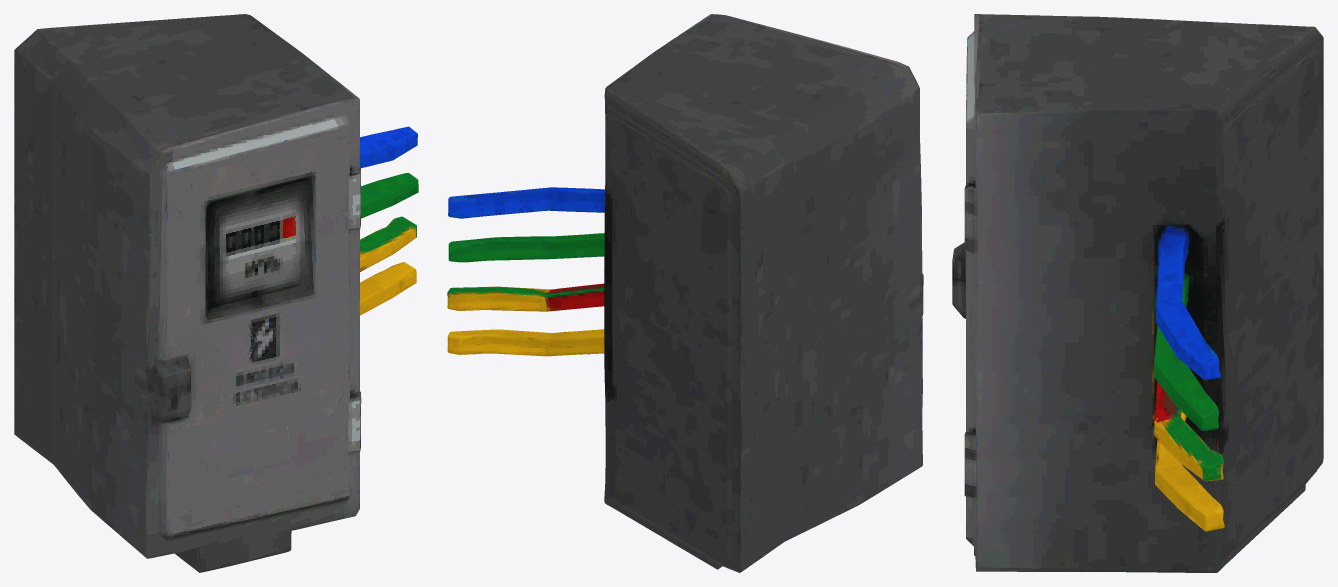
File: power_meter_psx.glb
The picture shows the model from 3 angles, left to right: view 1: azimuth 30°, elevation 25°; view 2: azimuth 150°, elevation 25°; view 3: azimuth 270°, elevation 25°; orthographic projection. The views are drawn at different scales.
Visible parts, largest first — view 1: MedidorEnergia; view 2: MedidorEnergia; view 3: MedidorEnergia.
Boxes of the visible parts, bbox=[...] form: MedidorEnergia: bbox=[14, 14, 418, 572]; MedidorEnergia: bbox=[447, 14, 923, 572]; MedidorEnergia: bbox=[952, 14, 1323, 572].
Bounding box in the file's own units: 0.766 × 0.8575 × 0.5945.
1 material, 1 textured.
